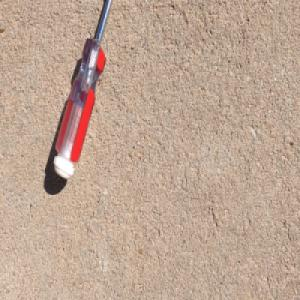Screwdriver: (52, 0, 115, 181)
